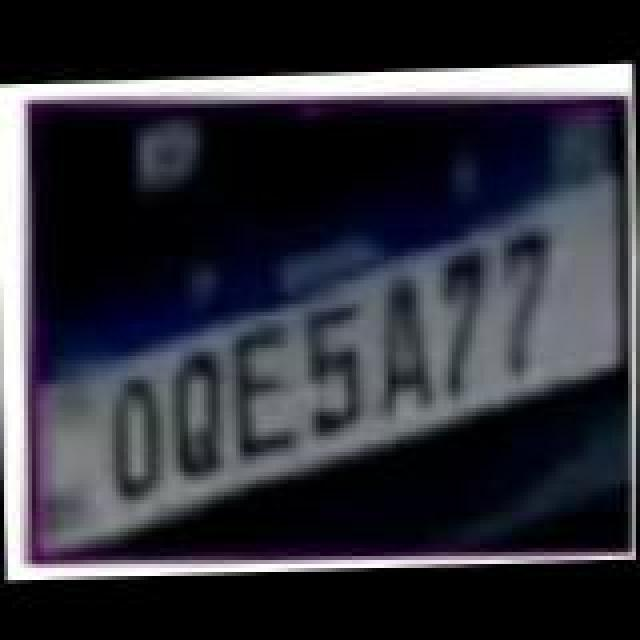5: (298, 296, 374, 440)
7: (436, 246, 496, 398), (500, 230, 560, 378)
A: (372, 274, 444, 422)
E: (224, 320, 304, 468)
O: (104, 372, 172, 504)
Q: (164, 348, 232, 484)
